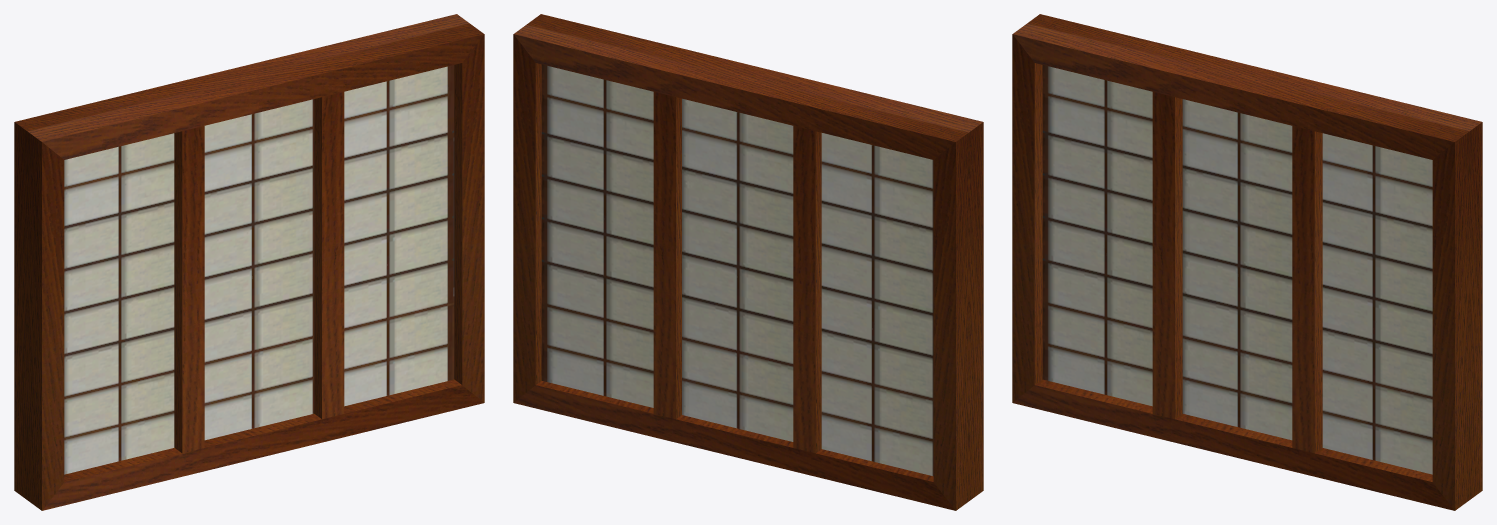
Rendered from Window1.a.fbx.
The picture shows the model from 3 angles, left to right: view 1: azimuth 30°, elevation 25°; view 2: azimuth 150°, elevation 25°; view 3: azimuth 330°, elevation 25°; orthographic projection.
Visible parts, largest first — view 1: Group 0; view 2: Group 0; view 3: Group 0.
Boxes of the visible parts, x1,y1,x2,y2 form: Group 0: [14, 14, 484, 510]; Group 0: [513, 14, 983, 510]; Group 0: [1012, 14, 1482, 510].
Bounding box in the file's own units: 188 × 150 × 20.31.
Materials: 5 (5 with a texture image).
